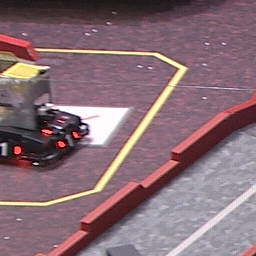Red: (57, 132, 81, 149), (42, 119, 65, 135), (1, 142, 22, 159)
Robot: (1, 57, 89, 169)
